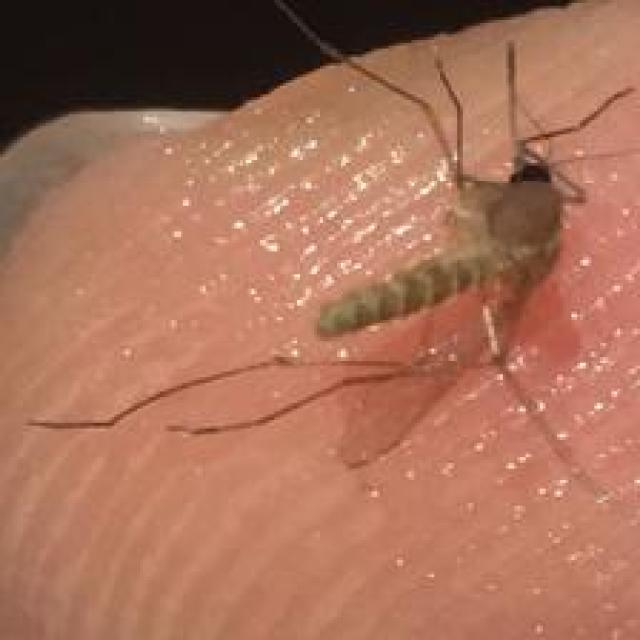Culex: (23, 2, 640, 504)
